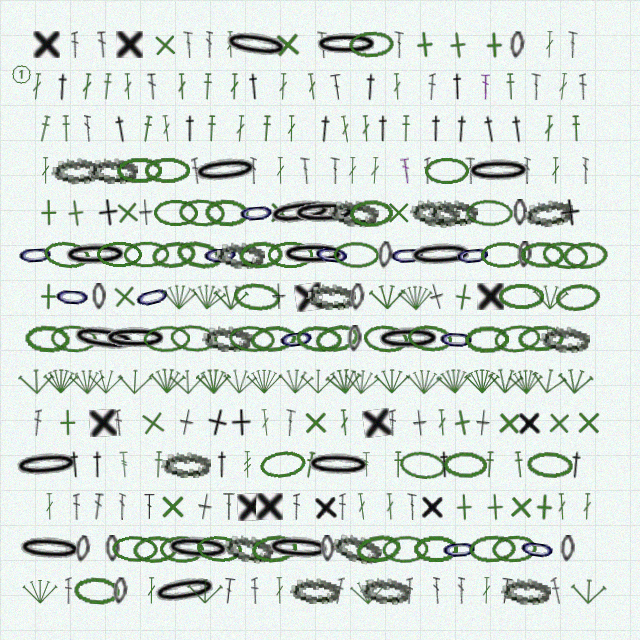chain: (150, 572, 220, 609), (221, 27, 291, 63), (69, 321, 139, 357), (266, 195, 335, 230), (191, 154, 260, 187), (12, 449, 81, 481), (164, 533, 232, 564), (265, 533, 333, 564), (407, 240, 475, 270), (16, 534, 84, 564), (330, 530, 384, 567), (465, 157, 532, 185), (291, 199, 358, 227), (62, 241, 129, 269), (375, 325, 442, 353), (305, 451, 372, 479), (313, 31, 380, 58), (280, 241, 347, 268), (102, 325, 169, 352), (522, 196, 575, 230), (174, 237, 224, 273), (222, 532, 275, 565), (313, 321, 362, 356), (409, 197, 461, 229), (258, 448, 308, 481), (354, 532, 402, 565), (42, 239, 91, 271), (398, 449, 447, 481), (150, 239, 198, 271), (541, 239, 589, 271), (554, 281, 602, 313), (328, 198, 379, 228), (232, 281, 281, 312), (169, 323, 218, 354), (131, 279, 174, 314), (362, 323, 410, 354), (406, 323, 454, 354), (493, 323, 541, 354), (250, 533, 298, 564), (51, 156, 102, 185), (360, 576, 411, 605), (249, 324, 297, 354), (195, 534, 243, 564), (562, 240, 609, 270), (228, 324, 275, 354), (295, 324, 342, 354), (526, 450, 573, 480), (132, 534, 179, 564), (215, 241, 265, 269), (540, 325, 590, 353), (501, 577, 551, 605), (468, 534, 516, 563), (348, 30, 395, 59), (178, 198, 225, 227), (50, 324, 97, 353), (517, 324, 564, 353), (73, 576, 120, 605), (88, 157, 138, 184), (428, 199, 478, 226), (306, 283, 356, 310), (202, 325, 252, 352), (161, 451, 211, 478), (290, 577, 340, 604), (465, 199, 513, 227), (111, 535, 159, 563), (204, 198, 250, 227), (238, 240, 284, 269), (24, 324, 70, 353), (491, 534, 537, 563), (480, 241, 527, 269), (143, 325, 190, 353), (382, 535, 429, 563), (517, 533, 558, 565), (333, 241, 379, 269), (276, 323, 317, 354), (96, 241, 143, 268), (123, 241, 170, 268), (267, 241, 314, 268), (349, 199, 394, 227), (520, 241, 565, 269), (464, 325, 509, 353), (443, 451, 488, 479), (159, 535, 204, 563), (116, 157, 162, 184), (144, 157, 190, 184), (424, 157, 470, 184), (498, 283, 544, 310), (312, 239, 352, 270), (153, 199, 198, 226), (413, 535, 458, 562), (453, 240, 493, 270), (237, 198, 276, 227), (16, 240, 55, 269), (201, 240, 240, 269), (53, 282, 92, 311), (388, 241, 427, 269), (437, 325, 476, 353), (440, 535, 479, 563), (74, 535, 91, 563), (509, 31, 525, 59), (377, 241, 393, 269), (349, 283, 365, 311), (112, 577, 128, 605), (517, 241, 532, 268), (347, 325, 362, 352), (105, 535, 120, 562), (320, 535, 335, 562), (560, 535, 575, 562), (513, 199, 527, 226), (92, 283, 106, 310)
double: (330, 73, 344, 101), (222, 577, 236, 605), (499, 577, 513, 605), (339, 115, 352, 143), (550, 577, 563, 604), (31, 73, 43, 100), (81, 73, 93, 100), (306, 73, 318, 100), (557, 73, 569, 100), (400, 157, 412, 184), (284, 409, 296, 436), (92, 493, 104, 520), (223, 493, 235, 520), (356, 493, 368, 520), (97, 31, 108, 58), (183, 31, 194, 58), (317, 31, 328, 58), (567, 31, 578, 58), (147, 73, 158, 100), (161, 115, 172, 142), (235, 115, 246, 142), (300, 157, 311, 184), (260, 409, 271, 436), (339, 409, 350, 436), (144, 493, 155, 520), (334, 577, 345, 604), (394, 31, 404, 58), (123, 73, 133, 100), (177, 73, 187, 100), (278, 73, 288, 100), (392, 73, 402, 100), (531, 73, 541, 100), (361, 115, 371, 142), (544, 115, 554, 142), (191, 157, 201, 184), (330, 157, 340, 184), (370, 157, 380, 184), (465, 157, 475, 184), (437, 409, 447, 436), (385, 493, 395, 520), (407, 493, 417, 520), (557, 493, 567, 520), (582, 493, 592, 520), (226, 31, 235, 58), (545, 31, 554, 58), (230, 73, 239, 100), (481, 73, 490, 100), (287, 115, 296, 142), (41, 157, 50, 184), (276, 157, 285, 184), (348, 157, 357, 184), (551, 157, 560, 184), (33, 409, 42, 436), (114, 409, 123, 436), (45, 493, 54, 520), (147, 577, 156, 604), (275, 577, 284, 604), (482, 577, 491, 604), (71, 31, 79, 58), (205, 31, 213, 58), (428, 73, 436, 100), (579, 73, 587, 100), (523, 157, 531, 184), (118, 493, 126, 520), (251, 577, 259, 604), (457, 577, 465, 604), (84, 115, 91, 142), (250, 157, 257, 184), (424, 157, 431, 184), (582, 157, 589, 184), (389, 409, 396, 436), (73, 493, 80, 520), (293, 493, 300, 520), (339, 493, 346, 520), (65, 577, 72, 604), (406, 577, 413, 604), (433, 577, 440, 604)
fan: (529, 364, 569, 397), (189, 281, 228, 312), (325, 366, 363, 396), (343, 366, 381, 396), (557, 366, 594, 396), (277, 366, 315, 395), (435, 366, 473, 395), (161, 282, 198, 311), (532, 282, 569, 311), (149, 366, 186, 395), (487, 366, 524, 395), (222, 366, 258, 395), (397, 283, 434, 311), (18, 367, 55, 395), (169, 367, 206, 395), (406, 367, 443, 395), (349, 577, 386, 605), (570, 577, 607, 605), (213, 283, 249, 311), (69, 367, 105, 395), (117, 367, 153, 395), (508, 367, 544, 395), (196, 367, 231, 395), (369, 283, 405, 310), (43, 367, 79, 394), (88, 367, 124, 394), (246, 367, 282, 394), (300, 367, 336, 394), (374, 367, 410, 394), (464, 367, 500, 394), (22, 577, 58, 604), (187, 577, 223, 604)
half_double: (112, 115, 130, 143), (316, 115, 334, 143), (481, 115, 499, 143), (567, 451, 585, 479), (54, 73, 71, 101), (362, 73, 379, 101), (453, 115, 470, 143), (509, 115, 526, 143), (246, 73, 262, 100), (182, 115, 198, 142), (375, 115, 391, 142), (428, 115, 444, 142), (67, 451, 83, 478), (214, 451, 230, 478), (37, 115, 52, 143), (450, 73, 465, 100), (90, 451, 105, 478), (437, 451, 452, 478), (140, 115, 154, 143), (303, 451, 317, 479), (101, 73, 113, 100), (513, 451, 525, 478), (202, 73, 213, 100), (505, 73, 516, 100), (206, 115, 217, 142), (261, 115, 272, 142), (153, 451, 164, 478), (484, 451, 495, 478), (61, 115, 71, 142), (401, 115, 411, 142), (571, 115, 581, 142), (393, 451, 403, 478)
noise: (10, 63, 33, 86)
single: (447, 407, 478, 438), (443, 30, 473, 60), (61, 198, 91, 228), (294, 282, 324, 312), (448, 282, 478, 312), (138, 408, 168, 438), (362, 408, 392, 438), (273, 30, 302, 59), (410, 30, 439, 59), (113, 198, 142, 227), (110, 282, 139, 311), (204, 407, 230, 438), (151, 31, 179, 59), (480, 31, 508, 59), (89, 409, 117, 437), (495, 409, 523, 437), (545, 409, 573, 437), (237, 493, 265, 521), (450, 493, 478, 521), (481, 493, 509, 521), (507, 493, 535, 521), (530, 493, 558, 521), (33, 31, 60, 58), (116, 31, 143, 58), (35, 199, 62, 226), (267, 199, 294, 226), (385, 199, 412, 226), (35, 283, 62, 310), (477, 283, 504, 310), (54, 409, 81, 436), (302, 409, 329, 436), (575, 409, 602, 436), (159, 493, 186, 520), (256, 493, 283, 520), (313, 493, 339, 521), (96, 198, 120, 227), (558, 198, 582, 227), (517, 409, 542, 436), (420, 493, 445, 520), (230, 409, 252, 436), (427, 282, 447, 311), (177, 408, 196, 437), (196, 493, 214, 521), (412, 409, 428, 437), (475, 409, 491, 437), (138, 199, 154, 226), (272, 283, 286, 310)
treble: (119, 451, 130, 478), (243, 451, 252, 478), (362, 451, 371, 478)
